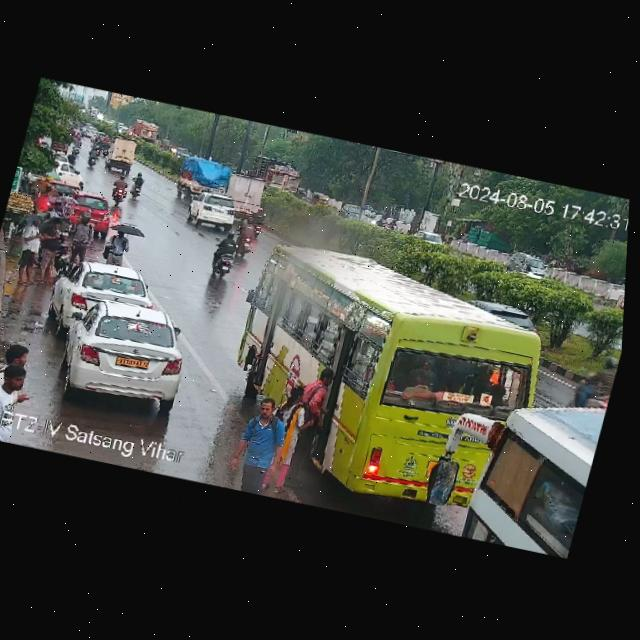bus: (201, 232, 583, 529), (420, 372, 608, 559)
car: (36, 289, 201, 416), (49, 254, 158, 331), (467, 293, 548, 332), (184, 192, 246, 236), (505, 248, 564, 285), (68, 190, 119, 230), (50, 158, 92, 191), (76, 123, 112, 145)
motorcycle: (204, 232, 245, 282), (230, 220, 257, 258), (125, 171, 153, 203), (107, 175, 132, 206), (83, 142, 104, 169), (248, 210, 269, 235), (68, 135, 85, 160)
person: (231, 355, 337, 504), (0, 328, 51, 445), (9, 214, 55, 280), (31, 217, 67, 277), (61, 211, 100, 264), (98, 220, 138, 266), (32, 185, 56, 213)
truck: (244, 151, 308, 198), (173, 156, 238, 201), (220, 173, 274, 216), (99, 134, 145, 176), (127, 117, 163, 149)
